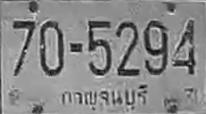0: (40, 20, 63, 76)
2: (116, 20, 139, 76)
4: (173, 19, 196, 75)
5: (87, 20, 111, 75)
7: (12, 20, 36, 76)
9: (144, 20, 168, 74)
KRI: (57, 83, 151, 111)
